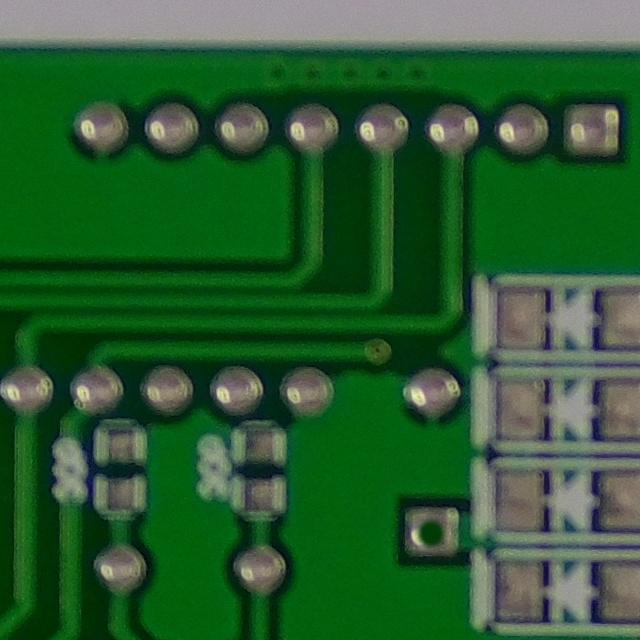missing_hole: (405, 499, 466, 564)
